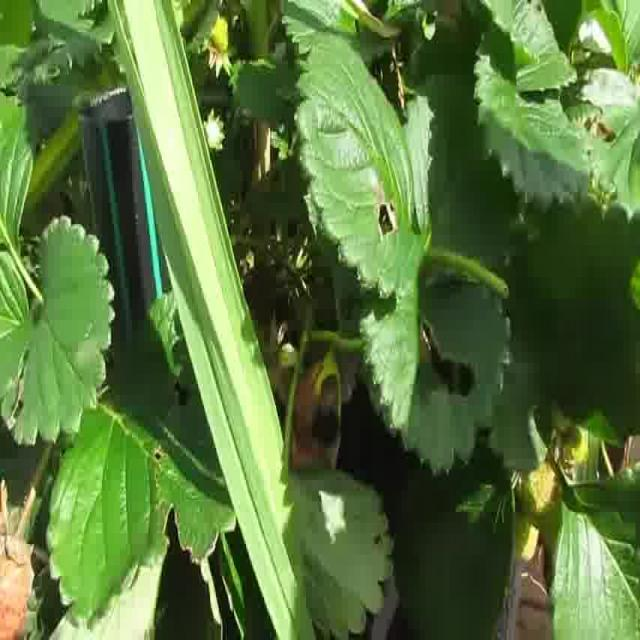Fruta sana: (524, 455, 558, 535)
Moho gris: (1, 518, 32, 637)
